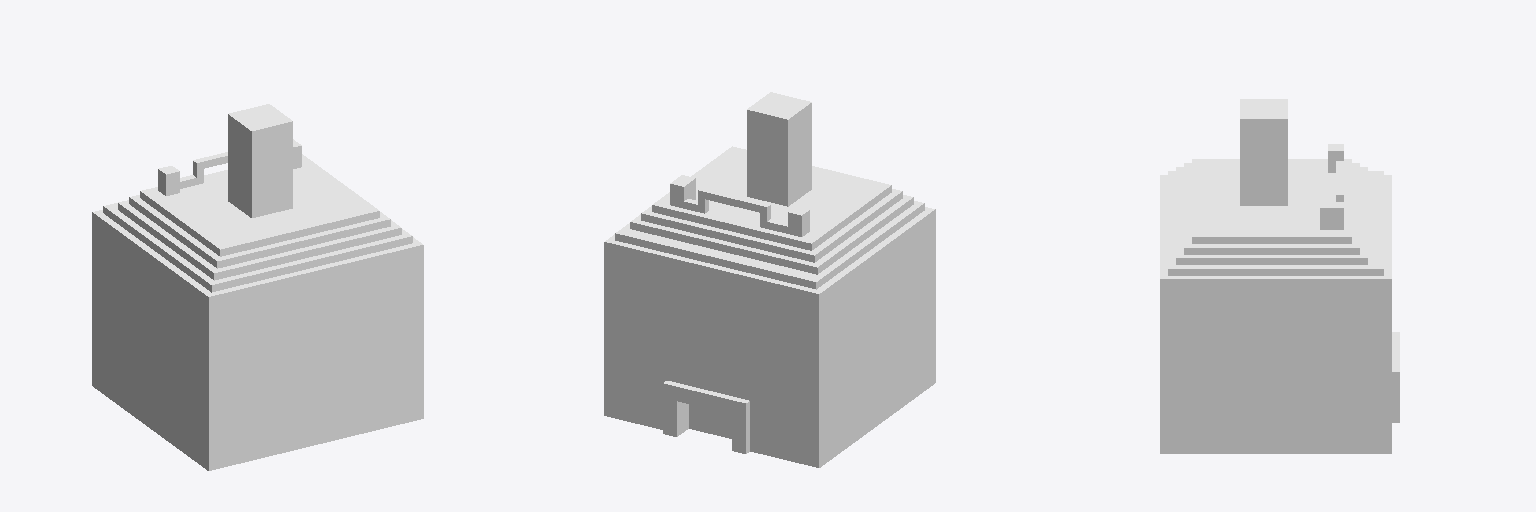
The model's file is house_1.obj.
The picture shows the model from 3 angles: view 1: azimuth 30°, elevation 25°; view 2: azimuth 150°, elevation 25°; view 3: azimuth 270°, elevation 25°; orthographic projection.
Visible parts, largest first — view 1: object 1; view 2: object 1; view 3: object 1.
Part boxes in pixels (left/top/right/bottom): object 1: left=92, top=104, right=423, bottom=470; object 1: left=604, top=92, right=935, bottom=467; object 1: left=1160, top=99, right=1399, bottom=453.
Size of the model in its own units: 3.1 by 4 by 3.